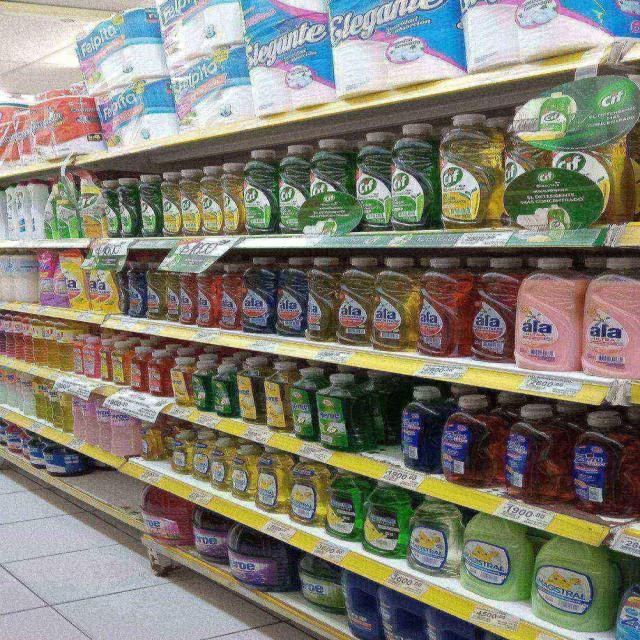ala_conc_amarillo: (372, 258, 416, 352), (336, 258, 373, 348)
ala_conc_azul: (276, 258, 308, 339), (242, 258, 275, 334)
ala_conc_rojo: (515, 256, 580, 372), (583, 258, 640, 378), (417, 257, 468, 359), (469, 257, 514, 363), (621, 415, 640, 521), (194, 270, 217, 328)
cif_conc_botella_verde: (390, 124, 434, 231), (310, 136, 352, 236), (355, 132, 390, 232), (276, 144, 310, 234), (242, 150, 275, 236), (114, 176, 139, 238), (211, 360, 236, 418), (138, 175, 160, 238)
magistral_con_amarillo: (230, 443, 254, 502)
